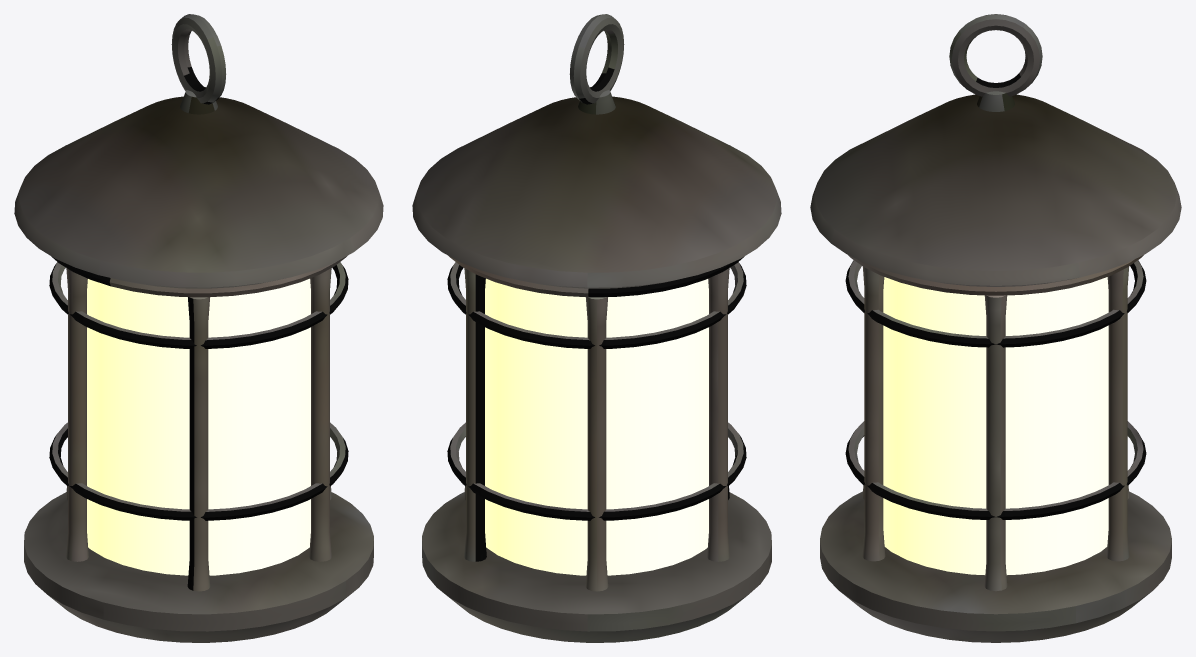
The model's file is ship_lantern.glb.
The picture shows the model from 3 angles, left to right: view 1: azimuth 30°, elevation 25°; view 2: azimuth 150°, elevation 25°; view 3: azimuth 270°, elevation 25°; orthographic projection.
Parts seen in each view (by area): view 1: ship_lantern_body, glass; view 2: ship_lantern_body, glass; view 3: ship_lantern_body, glass.
Boxes of the visible parts, x1,y1,x2,y2 form: ship_lantern_body: (14,14,383,642); glass: (87,278,310,575); ship_lantern_body: (412,14,781,642); glass: (485,278,708,575); ship_lantern_body: (810,14,1181,642); glass: (883,277,1108,574).
Size of the model in its own units: 0.39 by 0.669 by 0.39.
2 materials, 1 textured.
